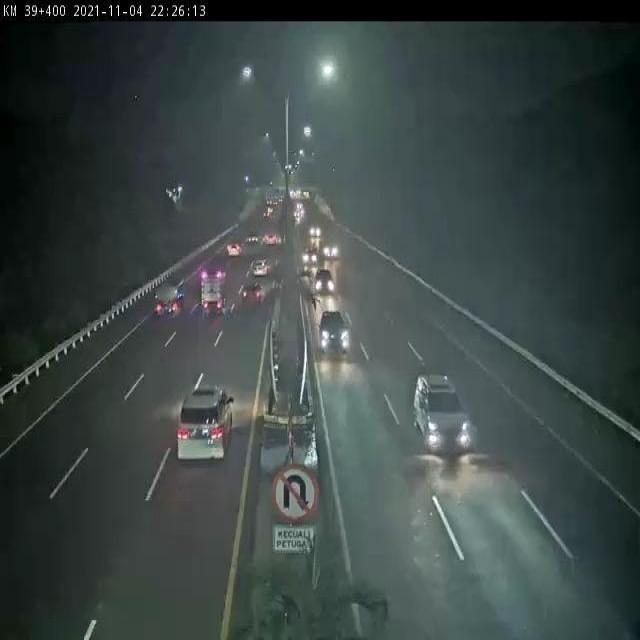car: (161, 372, 234, 495), (401, 377, 480, 456), (320, 313, 362, 355), (239, 277, 270, 324), (310, 260, 336, 289), (225, 240, 237, 269)
truck-s-: (189, 248, 226, 317), (146, 276, 181, 343)
